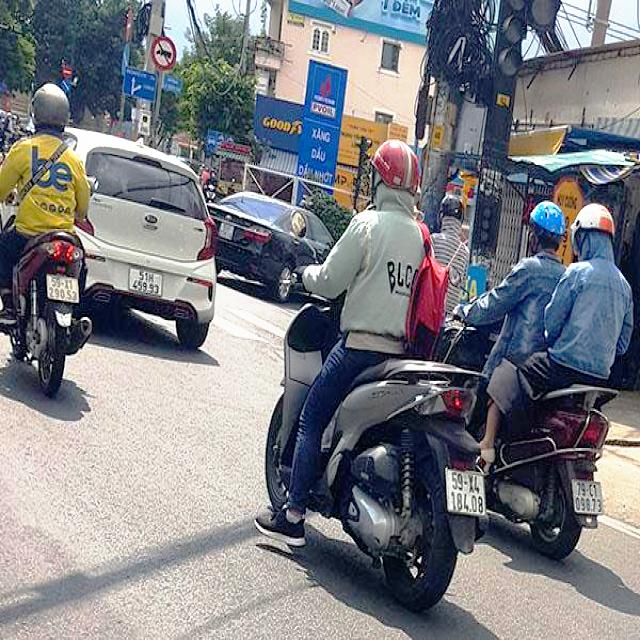license_plate: (448, 472, 485, 516), (575, 480, 606, 514), (49, 275, 81, 305), (131, 267, 163, 297)
